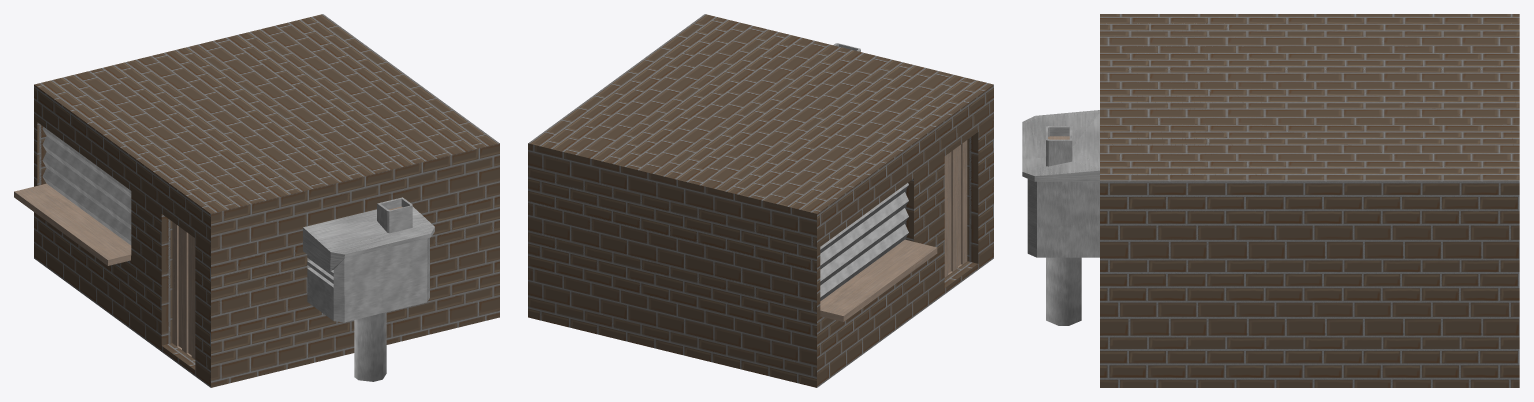
The picture shows the model from 3 angles, left to right: view 1: azimuth 30°, elevation 25°; view 2: azimuth 150°, elevation 25°; view 3: azimuth 270°, elevation 25°; orthographic projection. The views are drawn at different scales.
Parts seen in each view (by area): view 1: base1; view 2: base1; view 3: base1.
Boxes of the visible parts, x1,y1,x2,y2 form: base1: (14,14,499,387); base1: (528,14,993,387); base1: (1022,14,1519,387).
Size of the model in its own units: 563 by 320 by 654.
